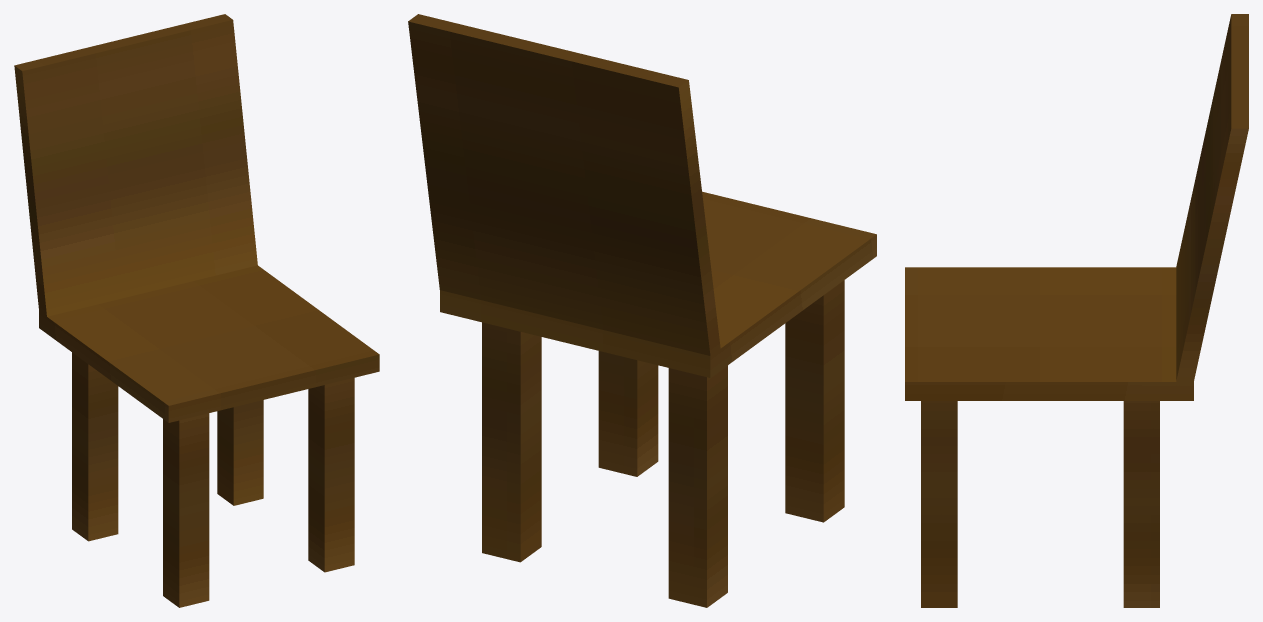
The model's file is stul.fbx.
3 views of the same model, side by side, from view 1: azimuth 30°, elevation 25°; view 2: azimuth 150°, elevation 25°; view 3: azimuth 270°, elevation 25° (orthographic). The views are drawn at different scales.
Visible parts, largest first — view 1: Cube.008; view 2: Cube.008; view 3: Cube.008.
Boxes of the visible parts, x1,y1,x2,y2 form: Cube.008: (14,14,379,607); Cube.008: (408,14,876,607); Cube.008: (905,14,1248,607).
Size of the model in its own units: 152 by 302 by 193.
